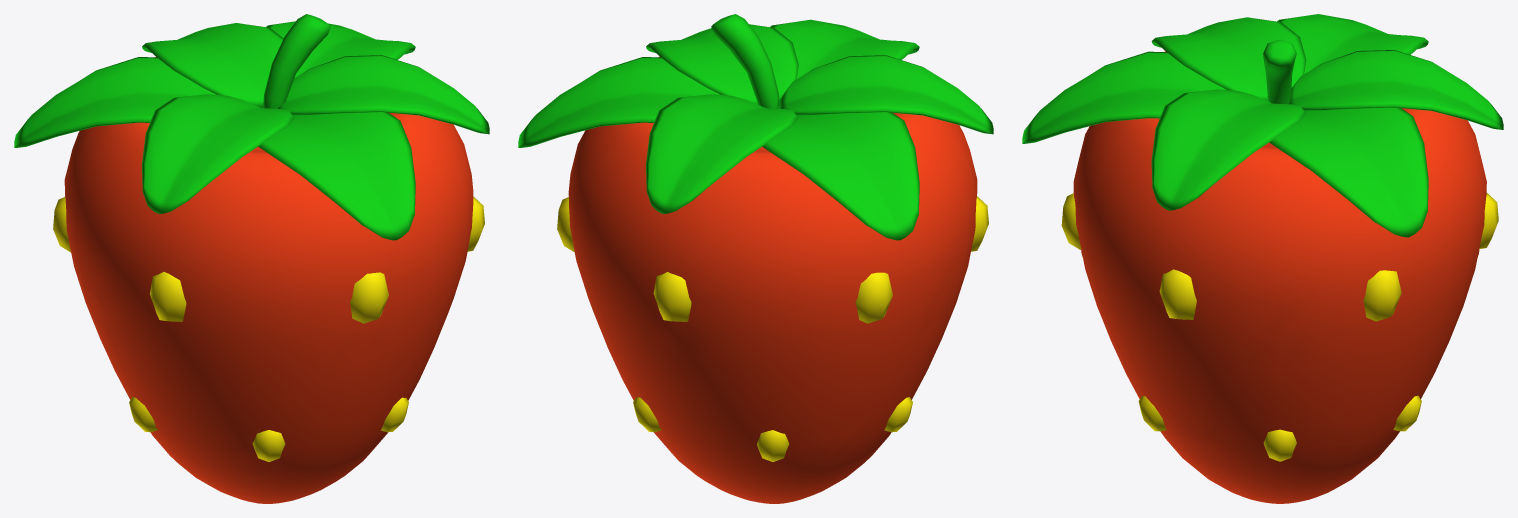
File: StrawBerry.fbx
3 views of the same model, side by side, from view 1: azimuth 30°, elevation 25°; view 2: azimuth 150°, elevation 25°; view 3: azimuth 270°, elevation 25° (orthographic).
Visible parts, largest first — view 1: Body.004; view 2: Body.004; view 3: Body.004.
Part boxes in pixels (x1,y1,x2,y2): Body.004: [14, 14, 489, 503]; Body.004: [518, 14, 993, 503]; Body.004: [1022, 14, 1503, 503].
Size of the model in its own units: 3.81 by 3.99 by 4.37.
